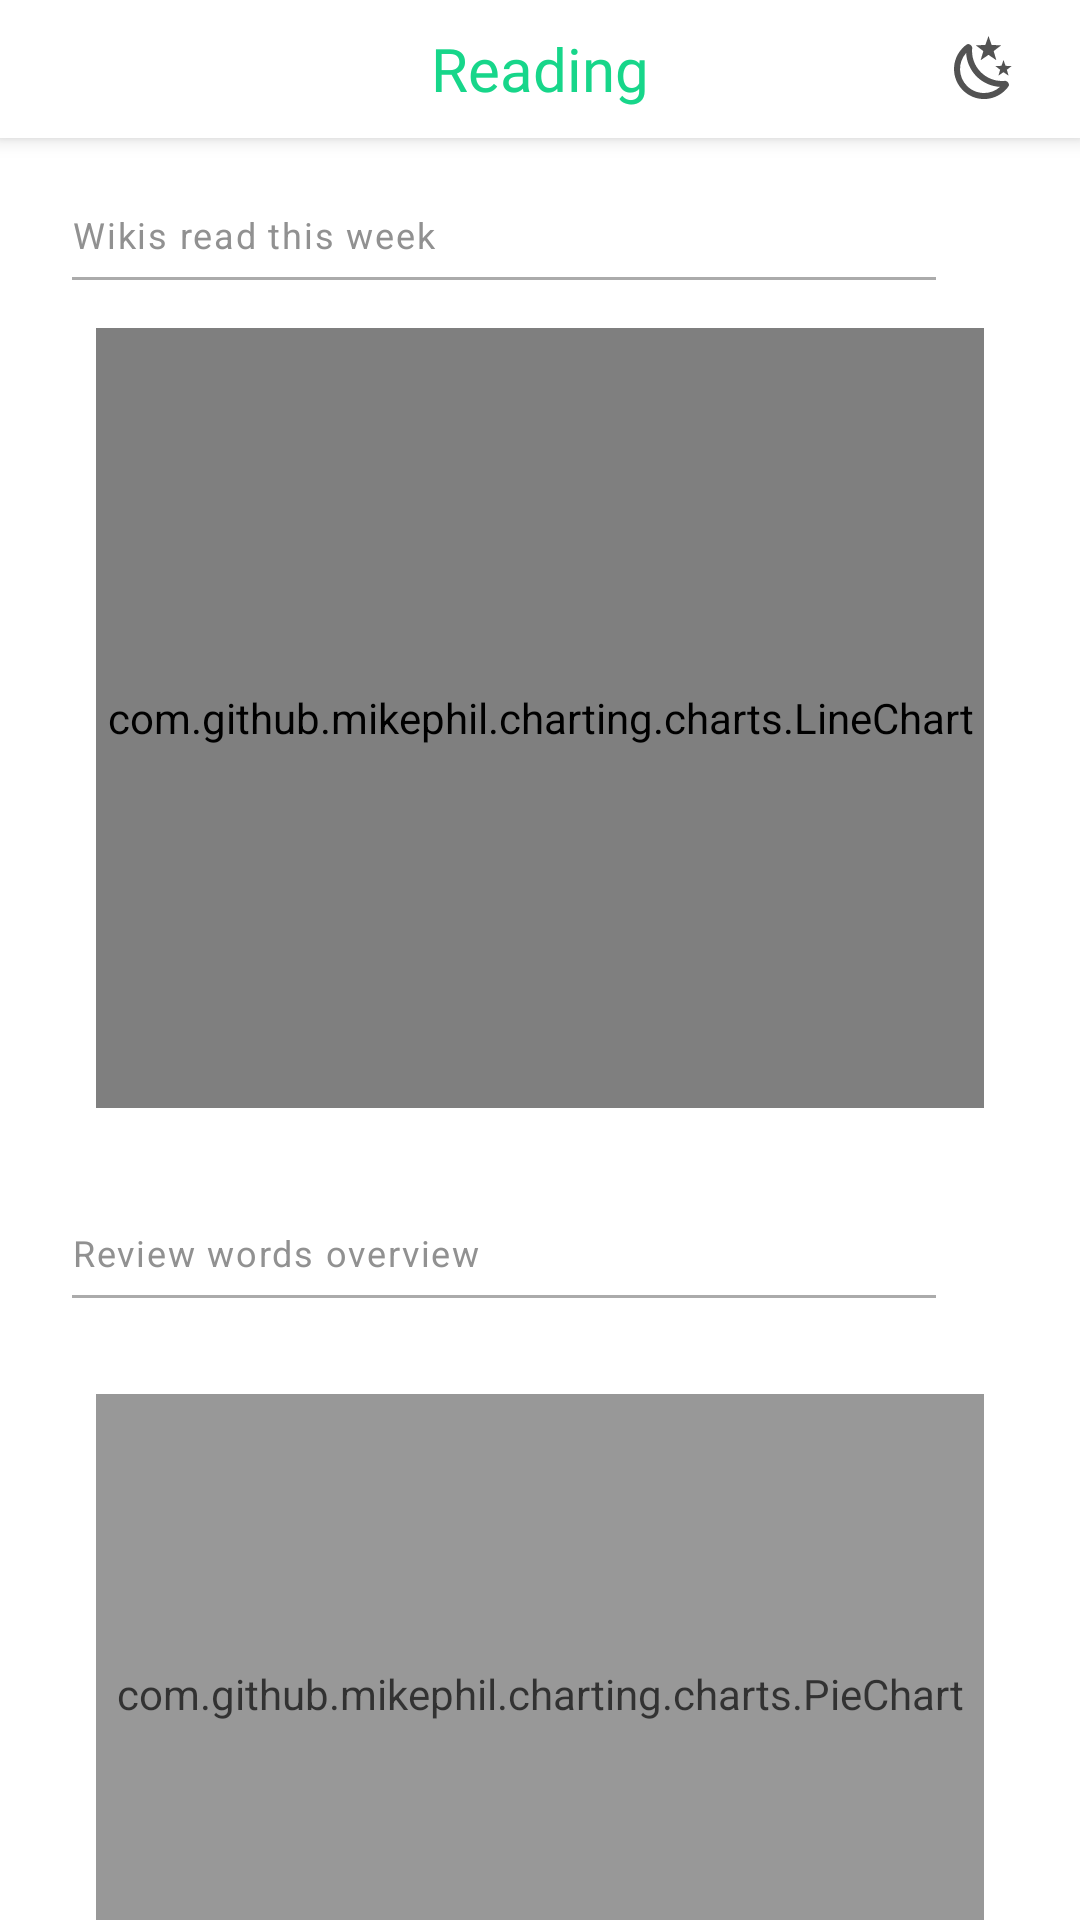

Locate icon controls on the screen. Image size 1080×1920, boxes as (x1, y1, x2, y2).
Enable/Disable night mode: (954, 36, 1012, 99)
